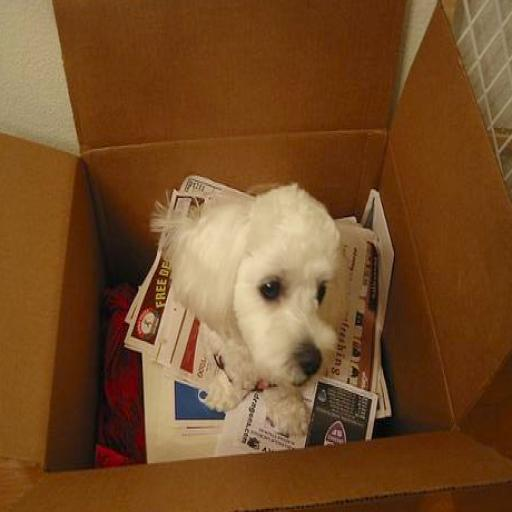dog_face: (181, 182, 345, 393)
